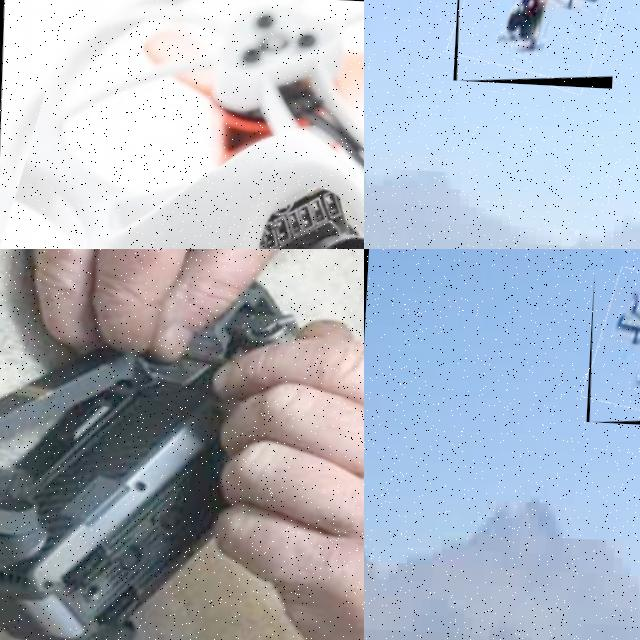0: (453, 0, 620, 89), (586, 272, 640, 429)
drone: (0, 249, 364, 640), (0, 0, 364, 249)
